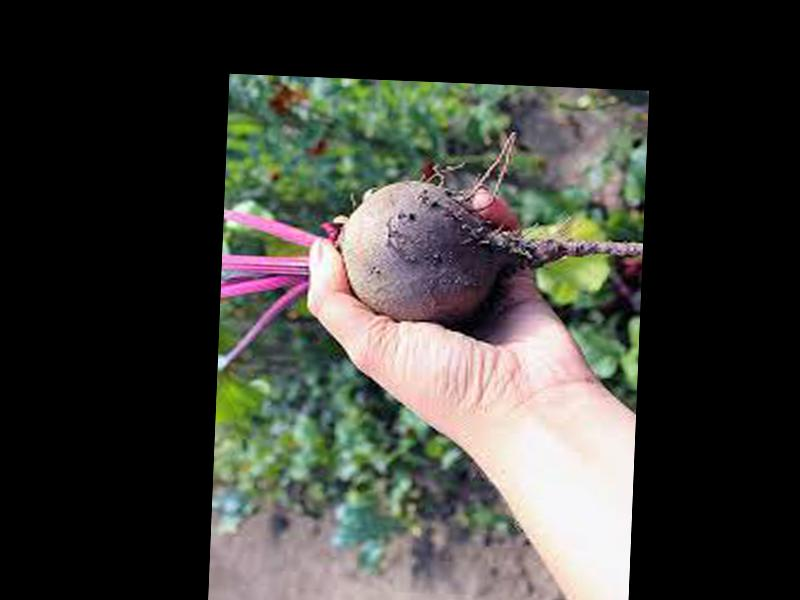Beet: (220, 118, 647, 389)
